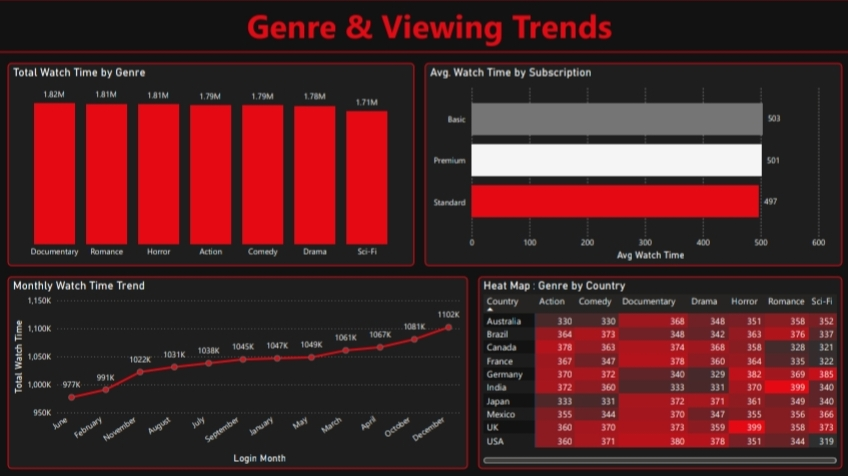

The page's visual inventory and layout, read from the dashboard file:
{"tool":"powerbi","page":{"name":"Page 2","canvas":[1280,720],"ordinal":1},"visuals":[{"type":"textbox","box":[0,0,1280,80],"z":0},{"type":"columnChart","title":"Total Watch Time by Genre","fields":{"Category":["netflix_users.Favorite_Genre"],"Y":["Sum(netflix_users.Watch_Time_Hours)"]},"box":[16,96,608,304],"z":1000},{"type":"barChart","title":"Avg. Watch Time by Subscription","fields":{"Category":["netflix_users.Subscription_Type"],"Y":["Avg(netflix_users.Watch_Time_Hours)"]},"box":[640,96,624,304],"z":2000},{"type":"pivotTable","title":"Heat Map : Genre by Country","fields":{"Rows":["netflix_users.Country"],"Columns":["netflix_users.Favorite_Genre"],"Values":["CountNonNull(netflix_users.User_ID)"]},"box":[720,416,544,288],"z":3000},{"type":"lineChart","title":"Monthly Watch Time Trend","fields":{"Category":["netflix_users.Login_Month"],"Y":["Sum(netflix_users.Watch_Time_Hours)"]},"box":[16,416,688,288],"z":4000}]}

Visuals, with their boxes in screenshot pixels (x1, y1, x2, y2), scaled from the page's 1280x720 canvas onto the 848x476 screenshot:
textbox: {"x1": 0, "y1": 0, "x2": 847, "y2": 53}
"Total Watch Time by Genre" columnChart: {"x1": 11, "y1": 63, "x2": 413, "y2": 264}
"Avg. Watch Time by Subscription" barChart: {"x1": 424, "y1": 63, "x2": 837, "y2": 264}
"Heat Map : Genre by Country" pivotTable: {"x1": 477, "y1": 275, "x2": 837, "y2": 465}
"Monthly Watch Time Trend" lineChart: {"x1": 11, "y1": 275, "x2": 466, "y2": 465}
